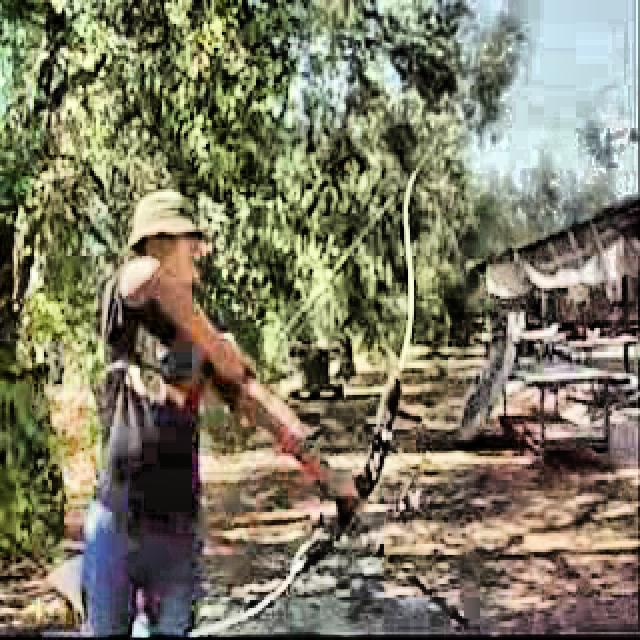I: (52, 173, 366, 640)
